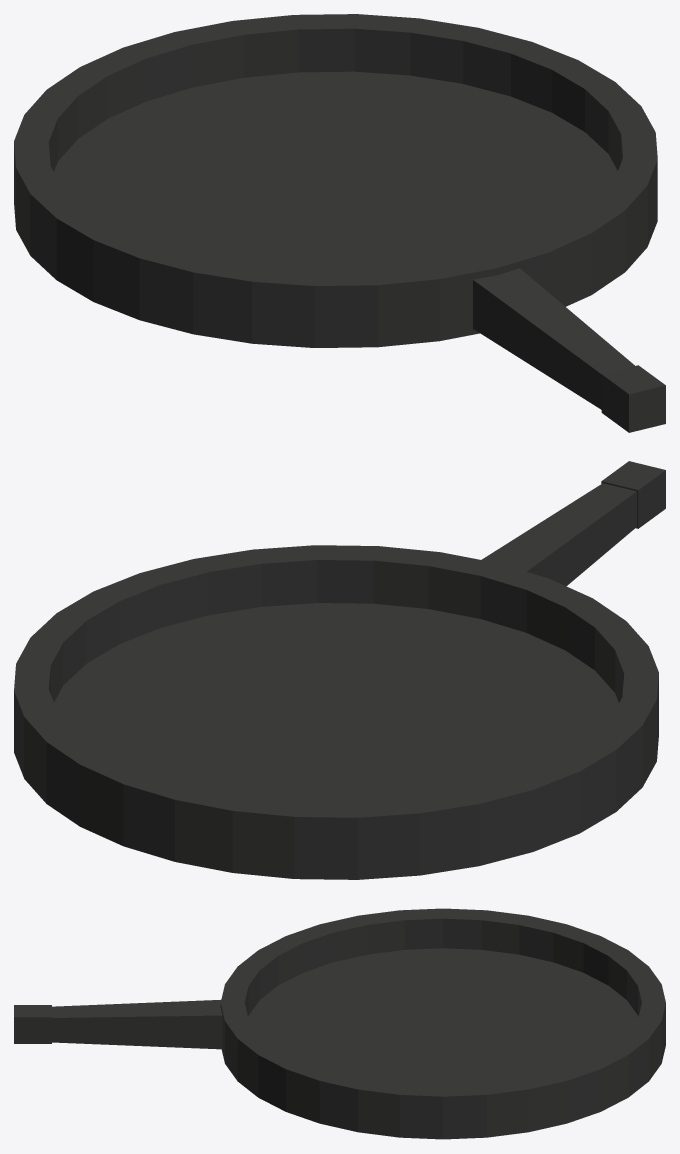
The model's file is Fire_Fry_Pot.fbx.
The picture shows the model from 3 angles, top to bottom: view 1: azimuth 30°, elevation 25°; view 2: azimuth 150°, elevation 25°; view 3: azimuth 270°, elevation 25°; orthographic projection. The views are drawn at different scales.
Parts seen in each view (by area): view 1: Pot_Fry; view 2: Pot_Fry; view 3: Pot_Fry.
Boxes of the visible parts, x1,y1,x2,y2 form: Pot_Fry: (14, 14, 665, 432); Pot_Fry: (14, 461, 665, 879); Pot_Fry: (14, 908, 665, 1139).
Size of the model in its own units: 0.5175 by 0.0549 by 0.7577.
